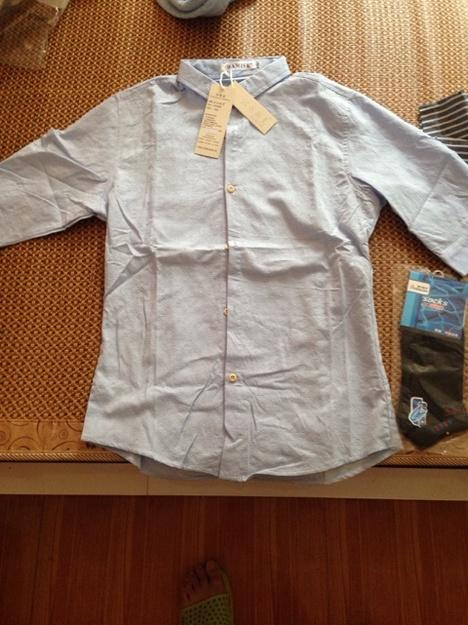S_shirt: (1, 55, 467, 482)
